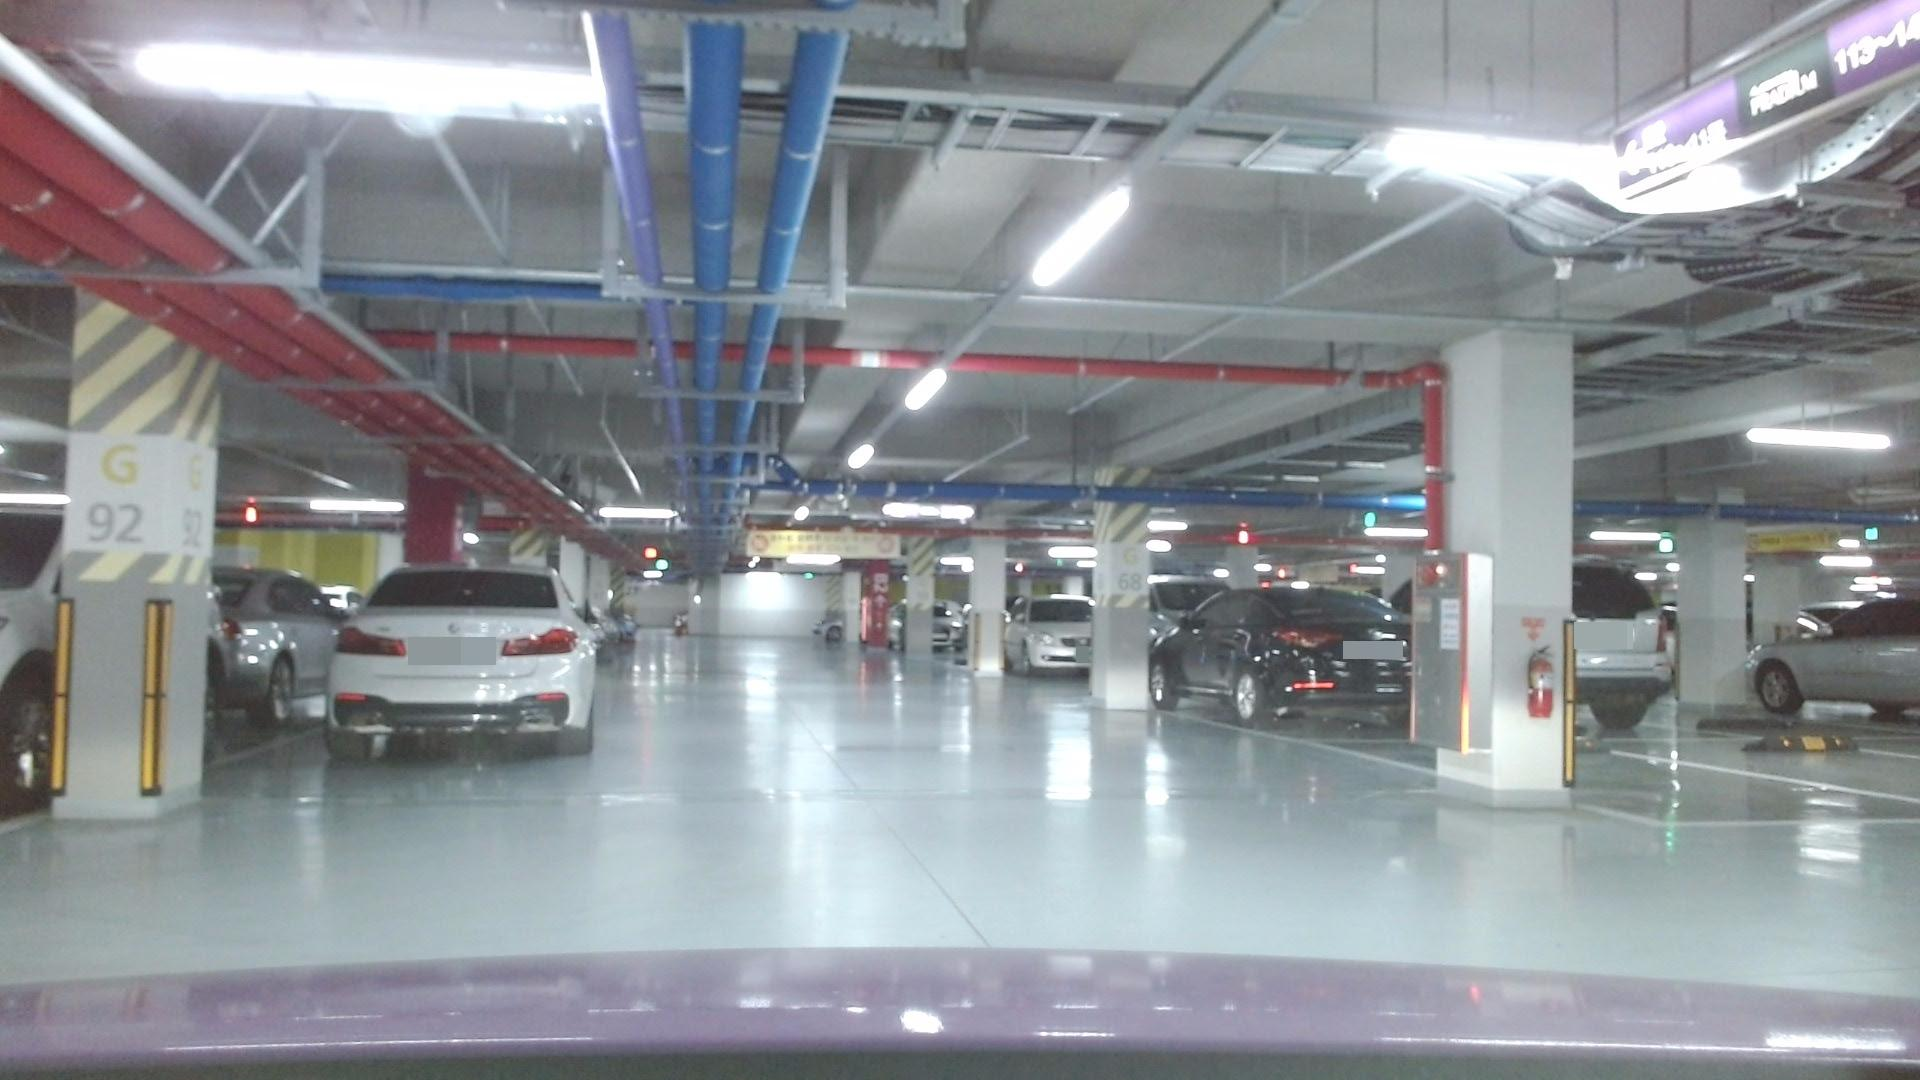empty: (1355, 720, 1875, 855)
occupied: (305, 570, 590, 745), (1135, 555, 1420, 730)
